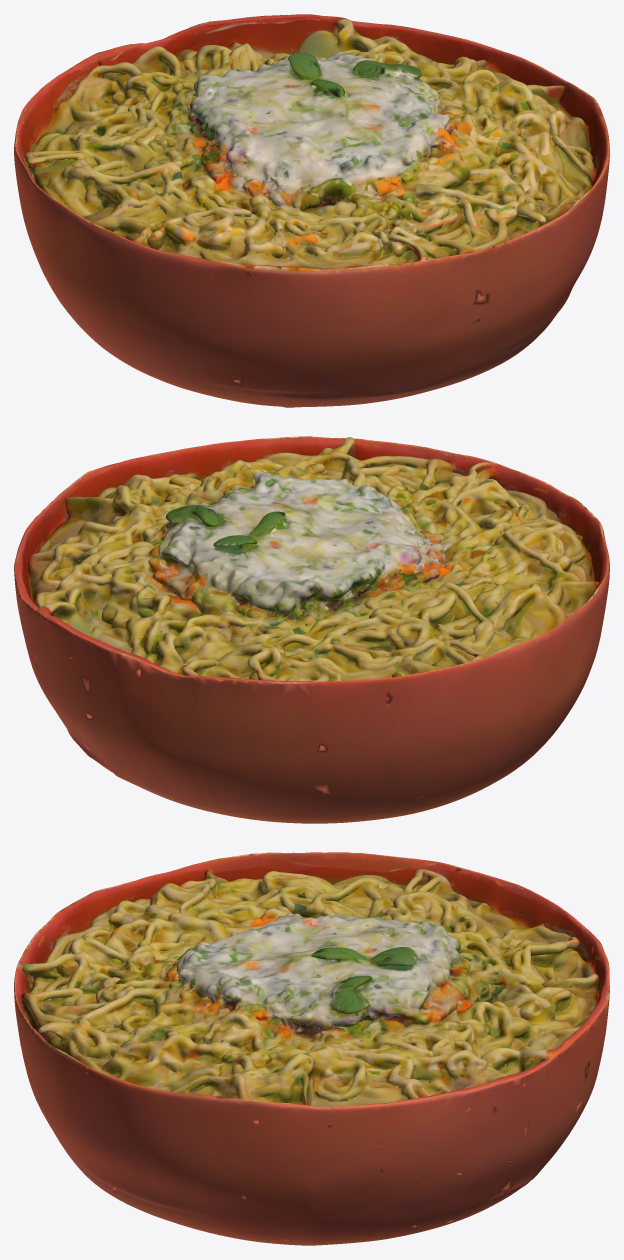
File: peri_peri_wings.glb
3 renders of one model, top to bottom at view 1: azimuth 30°, elevation 25°; view 2: azimuth 150°, elevation 25°; view 3: azimuth 270°, elevation 25°, orthographic.
Bounding box in the file's own units: 1.99 × 0.9551 × 2.
Materials: 1 (1 with a texture image).
